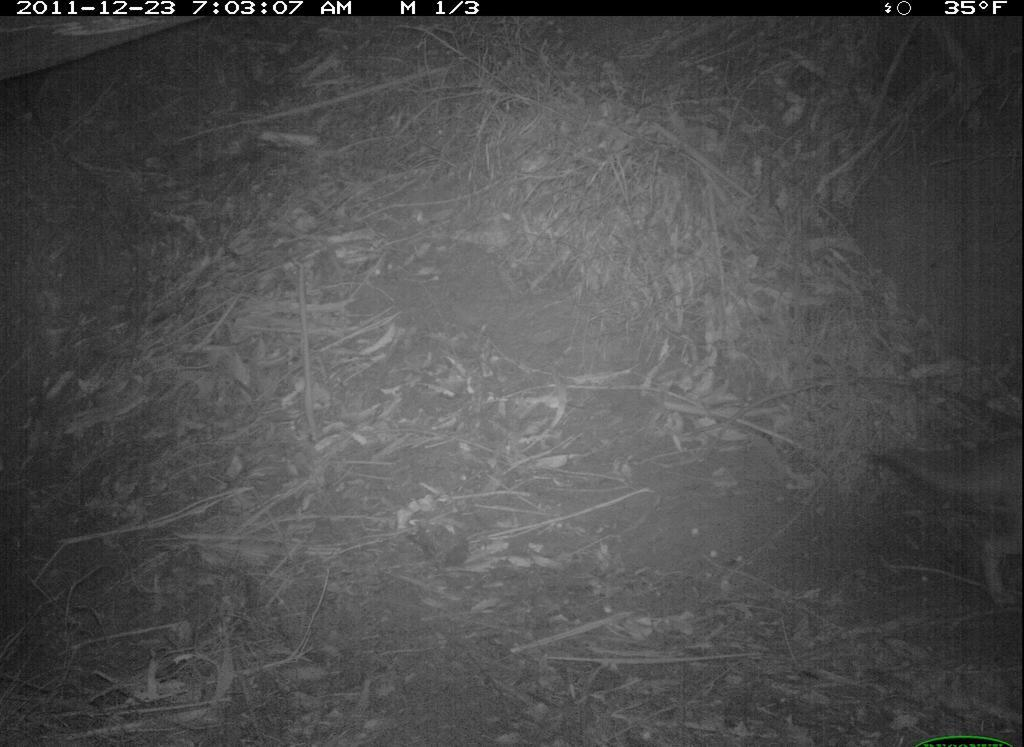coyote: (871, 428, 1022, 625)
